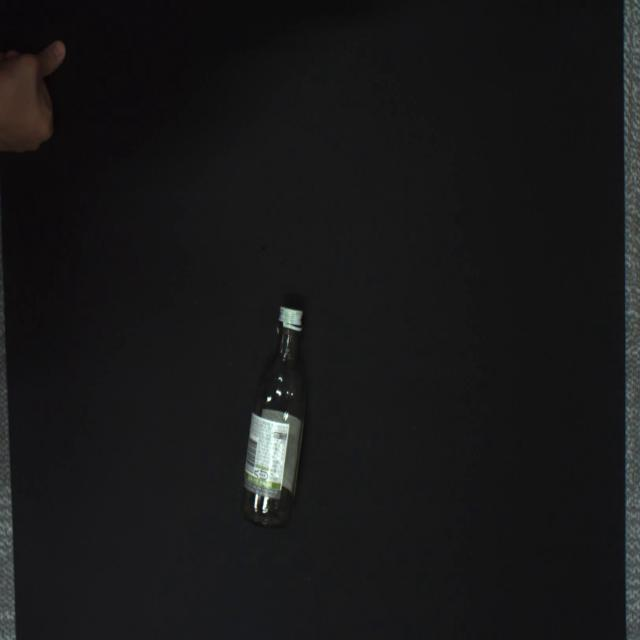soju-bottle: (240, 306, 307, 528)
